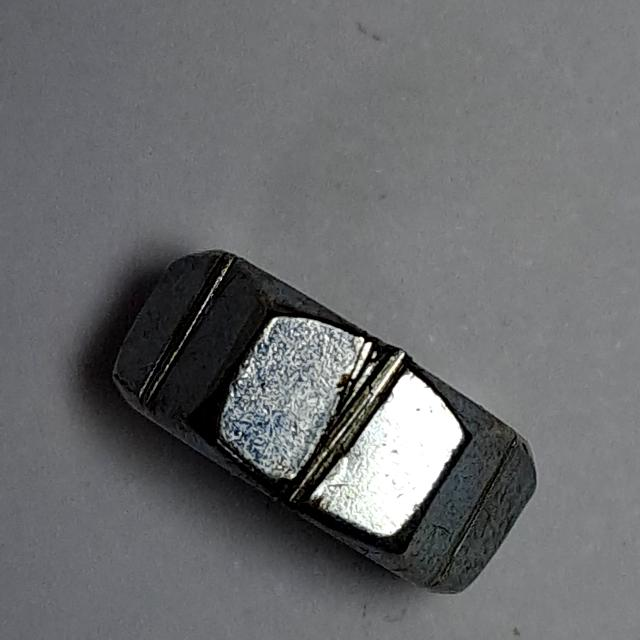Side_Scratches: (107, 235, 549, 610)
